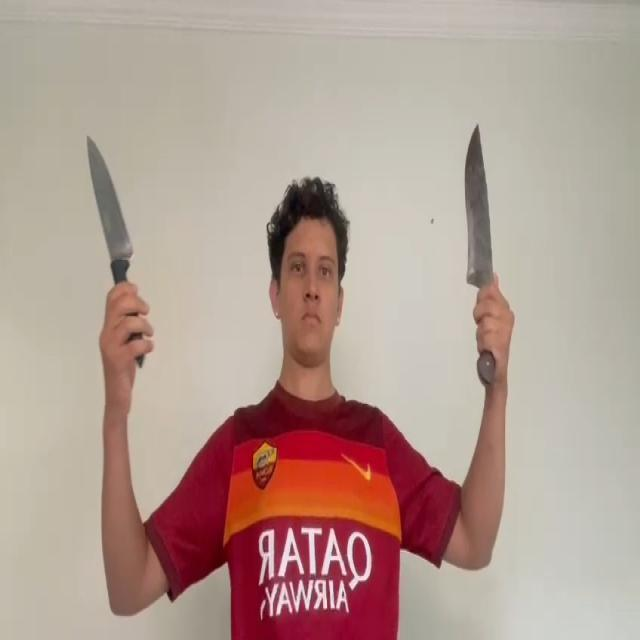knife: (86, 131, 133, 257), (464, 125, 493, 291)
